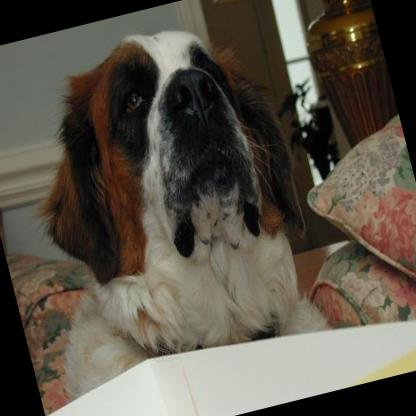Saint_Bernard: (0, 6, 331, 403)
